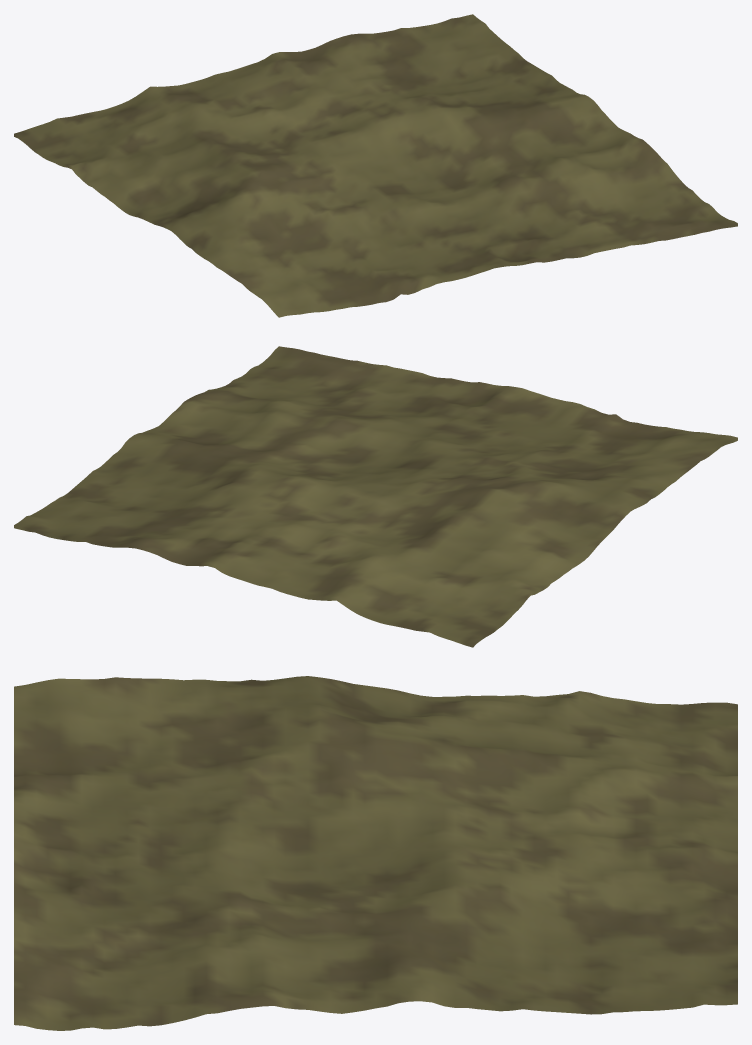
Rendered from land_f_01_05.glb.
3 renders of one model, top to bottom at view 1: azimuth 30°, elevation 25°; view 2: azimuth 150°, elevation 25°; view 3: azimuth 270°, elevation 25°, orthographic. The views are drawn at different scales.
Visible parts, largest first — view 1: land_f_01_05; view 2: land_f_01_05; view 3: land_f_01_05.
Boxes of the visible parts, x1,y1,x2,y2 form: land_f_01_05: (14,14,737,317); land_f_01_05: (14,346,737,647); land_f_01_05: (14,676,737,1030).
Bounding box in the file's own units: 3840 × 375 × 3840.
